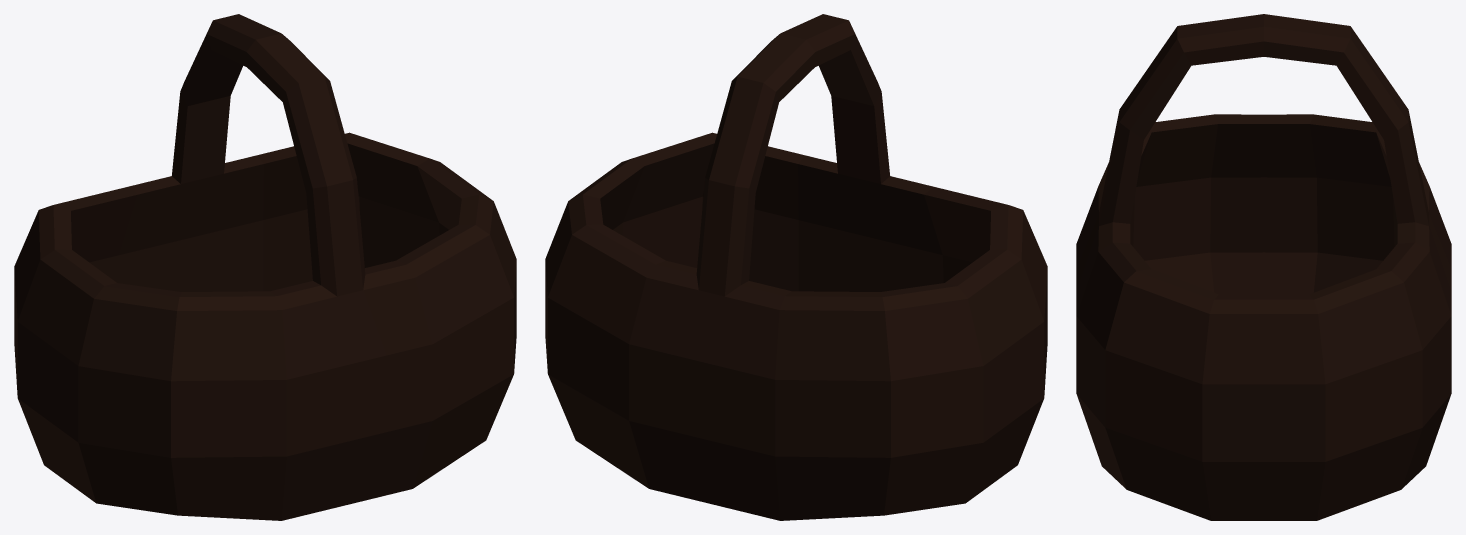
Rendered from Basket01_FBX.fbx.
3 renders of one model, left to right at view 1: azimuth 30°, elevation 25°; view 2: azimuth 150°, elevation 25°; view 3: azimuth 270°, elevation 25°, orthographic.
Parts seen in each view (by area): view 1: Basket001; view 2: Basket001; view 3: Basket001.
Part boxes in pixels (<box>): Basket001: <box>14,14,516,520</box>; Basket001: <box>545,14,1047,520</box>; Basket001: <box>1076,14,1451,520</box>.
Bounding box in the file's own units: 125 × 114 × 91.77.
